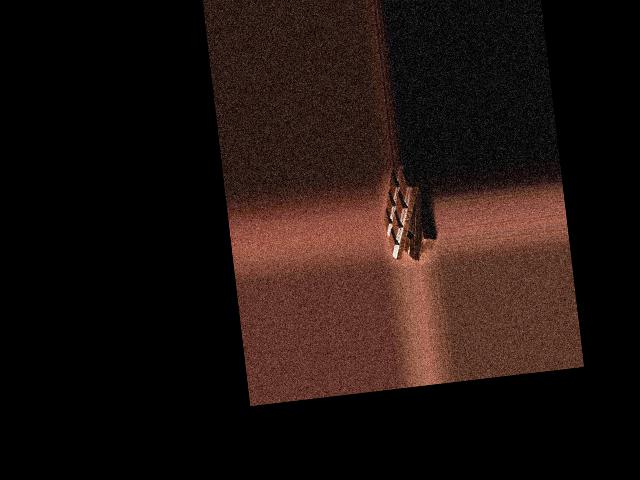chocolate: (379, 165, 432, 263)
